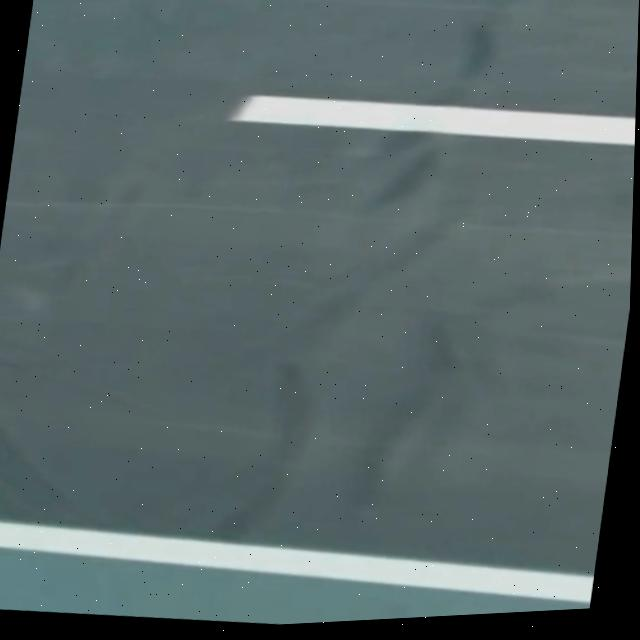center: (229, 95, 636, 146)
left: (0, 522, 593, 604)
